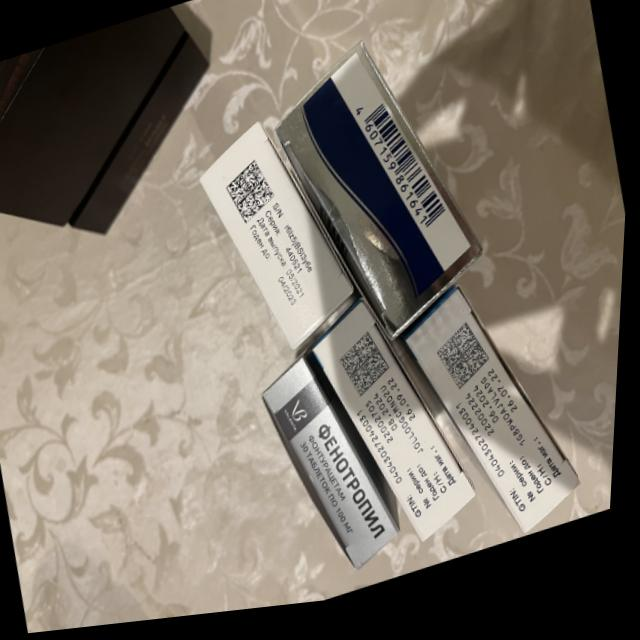datamatrix: (435, 326, 501, 406), (339, 334, 399, 411), (223, 160, 284, 235)
